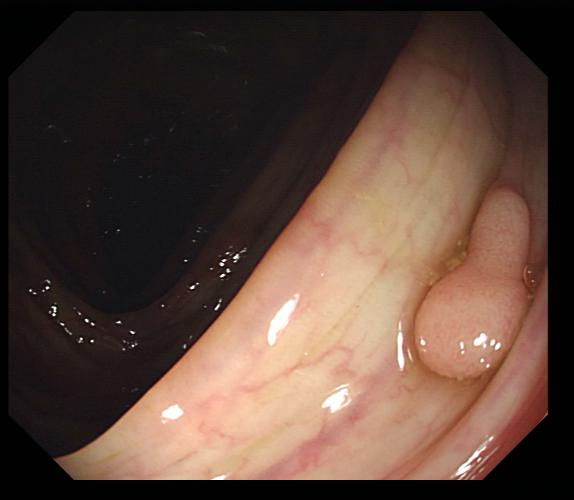polyp: (415, 186, 530, 385)
